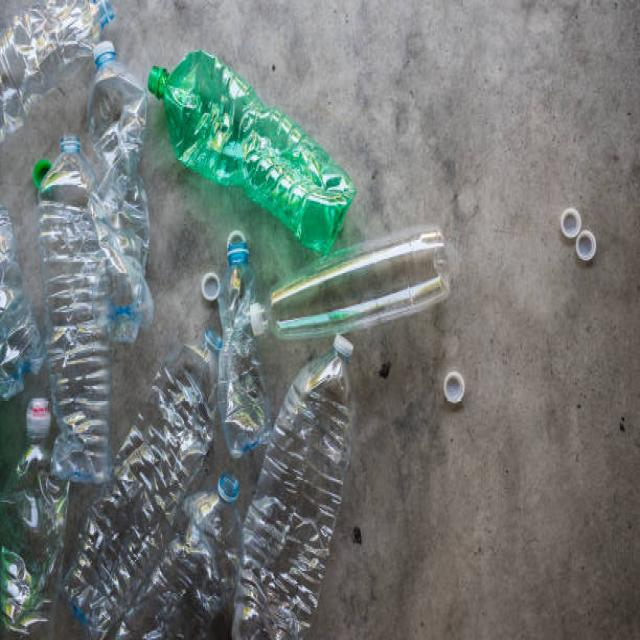plastic: (155, 317, 350, 626), (40, 28, 146, 502)
